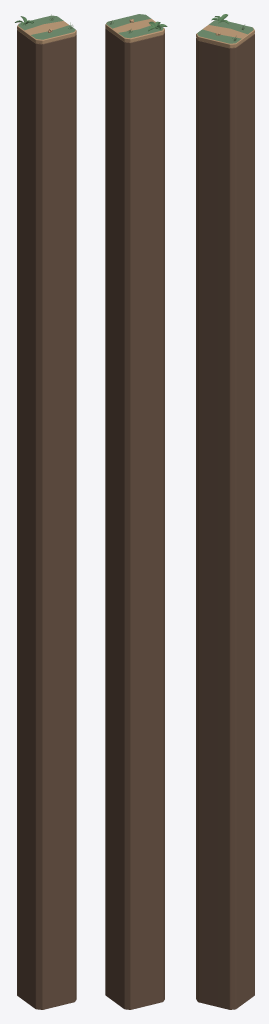
File: level_1_block_4_transition_plateform.gltf
3 views of the same model, side by side, from view 1: azimuth 30°, elevation 25°; view 2: azimuth 210°, elevation 25°; view 3: azimuth 330°, elevation 25° (orthographic).
Parts seen in each view (by area): view 1: Shape 4 (×2), Shape 2, Shape; view 2: Shape 4 (×2), Shape 2, Shape; view 3: Shape 4 (×2), Shape 2, Shape.
Boxes of the visible parts, left/top/right/bottom form: Shape 4 (×2): left=17, top=21, right=76, bottom=1009; Shape 2: left=31, top=25, right=75, bottom=39; Shape: left=18, top=15, right=63, bottom=30; Shape 4 (×2): left=105, top=18, right=164, bottom=1009; Shape 2: left=106, top=14, right=150, bottom=28; Shape: left=118, top=25, right=163, bottom=38; Shape 4 (×2): left=196, top=25, right=254, bottom=1009; Shape 2: left=197, top=29, right=241, bottom=43; Shape: left=209, top=20, right=253, bottom=34.
Size of the model in its own units: 2.28 by 50.82 by 2.48.
